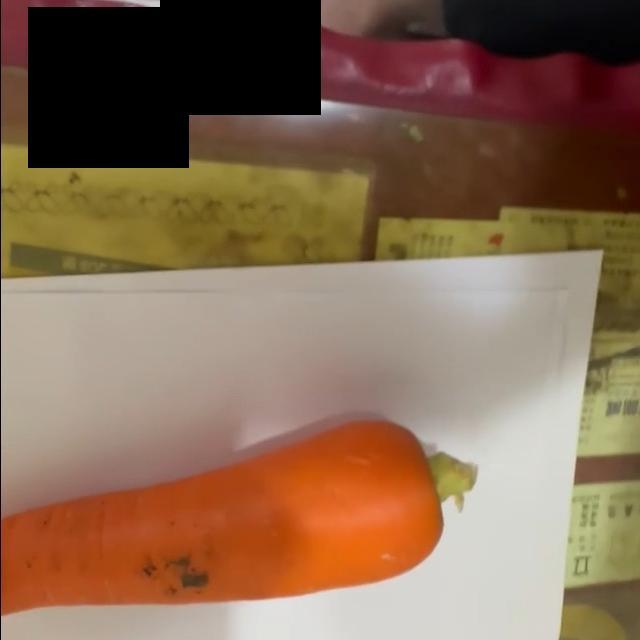carrot: (1, 418, 478, 628)
